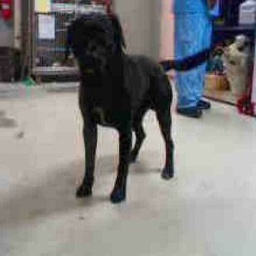dog: (61, 6, 184, 209)
